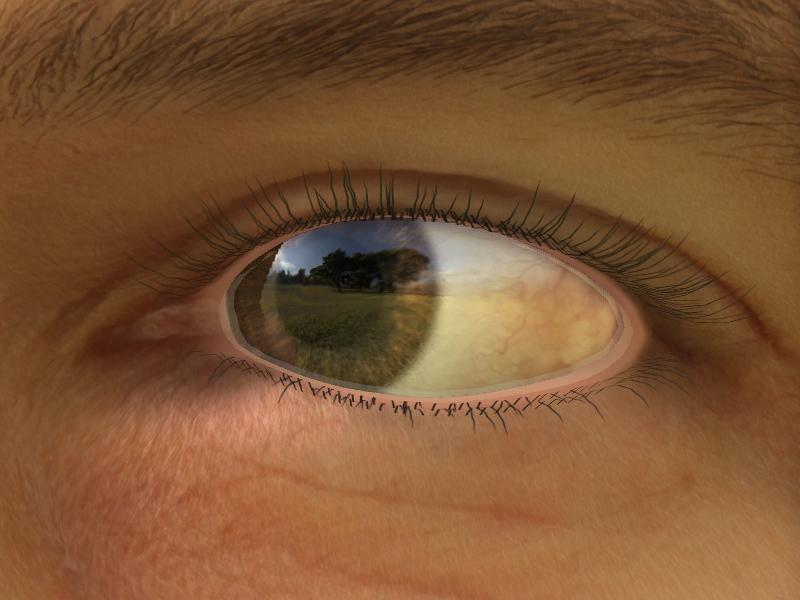eye: (234, 212, 440, 391)
